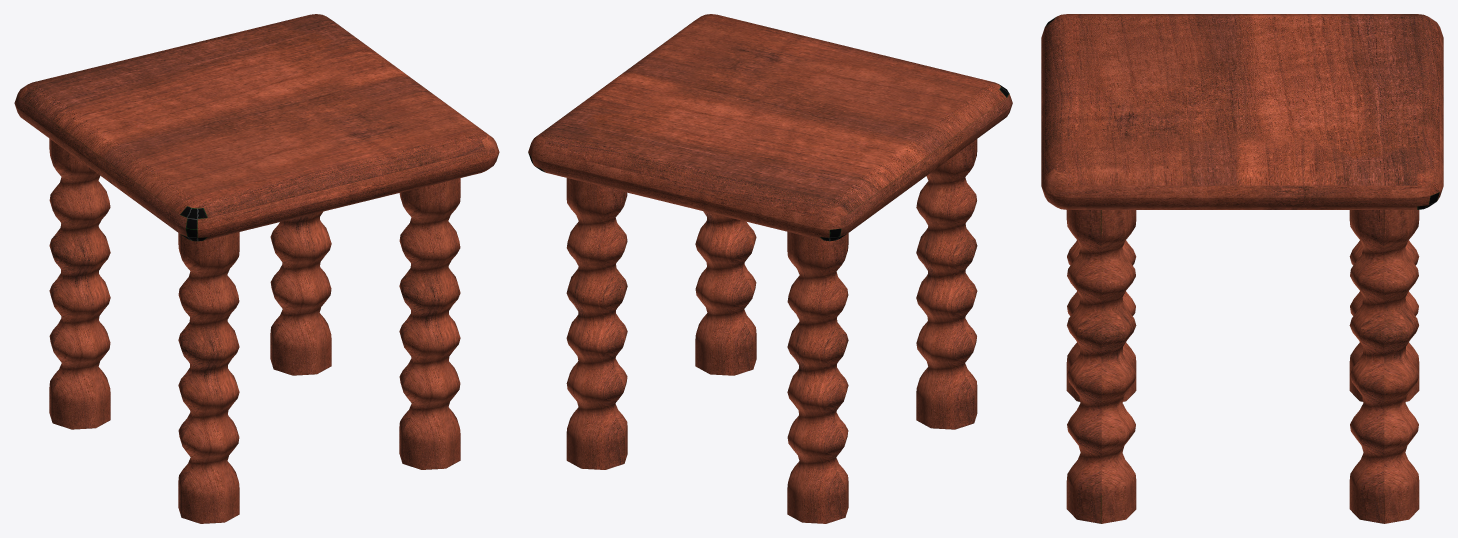
The model's file is table.obj.
The picture shows the model from 3 angles, left to right: view 1: azimuth 30°, elevation 25°; view 2: azimuth 150°, elevation 25°; view 3: azimuth 270°, elevation 25°; orthographic projection. The views are drawn at different scales.
Parts seen in each view (by area): view 1: ChamferBox01, Hose01, Hose02, Hose04, Hose03; view 2: ChamferBox01, Hose04, Hose03, Hose01, Hose02; view 3: ChamferBox01, Hose03, Hose02, Hose04, Hose01.
Part boxes in pixels (x1,y1,x2,y2): ChamferBox01: (14,14,499,241); Hose01: (178,232,239,523); Hose02: (399,178,460,469); Hose04: (49,138,110,429); Hose03: (270,211,331,375); ChamferBox01: (528,14,1012,241); Hose04: (787,231,848,523); Hose03: (566,178,627,469); Hose01: (916,139,977,429); Hose02: (695,211,756,375); ChamferBox01: (1041,14,1443,209); Hose03: (1349,210,1419,523); Hose02: (1066,210,1136,523); Hose04: (1349,240,1419,401); Hose01: (1066,240,1136,401).
Bounding box in the file's own units: 11506 × 11289 × 11435.
